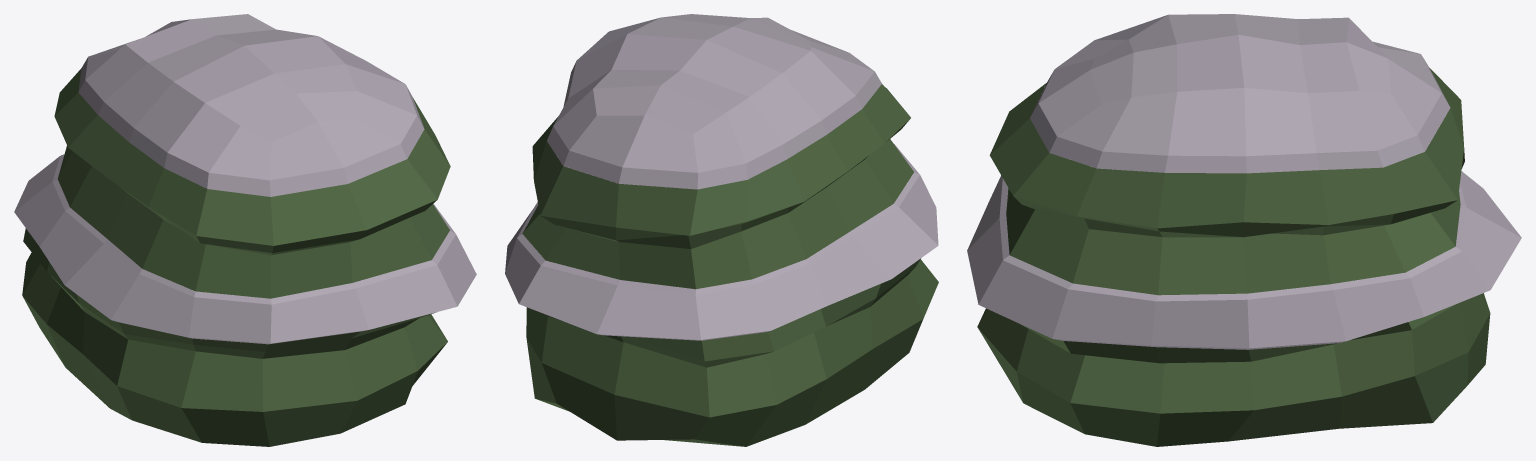
The model's file is Bush_Snow_1.glb.
The picture shows the model from 3 angles, left to right: view 1: azimuth 30°, elevation 25°; view 2: azimuth 150°, elevation 25°; view 3: azimuth 270°, elevation 25°; orthographic projection. The views are drawn at different scales.
Visible parts, largest first — view 1: Bush; view 2: Bush; view 3: Bush.
Boxes of the visible parts, x1,y1,x2,y2 form: Bush: (14, 14, 476, 446); Bush: (505, 14, 938, 446); Bush: (967, 14, 1521, 446).
Size of the model in its own units: 1.39 by 1.28 by 1.78.
